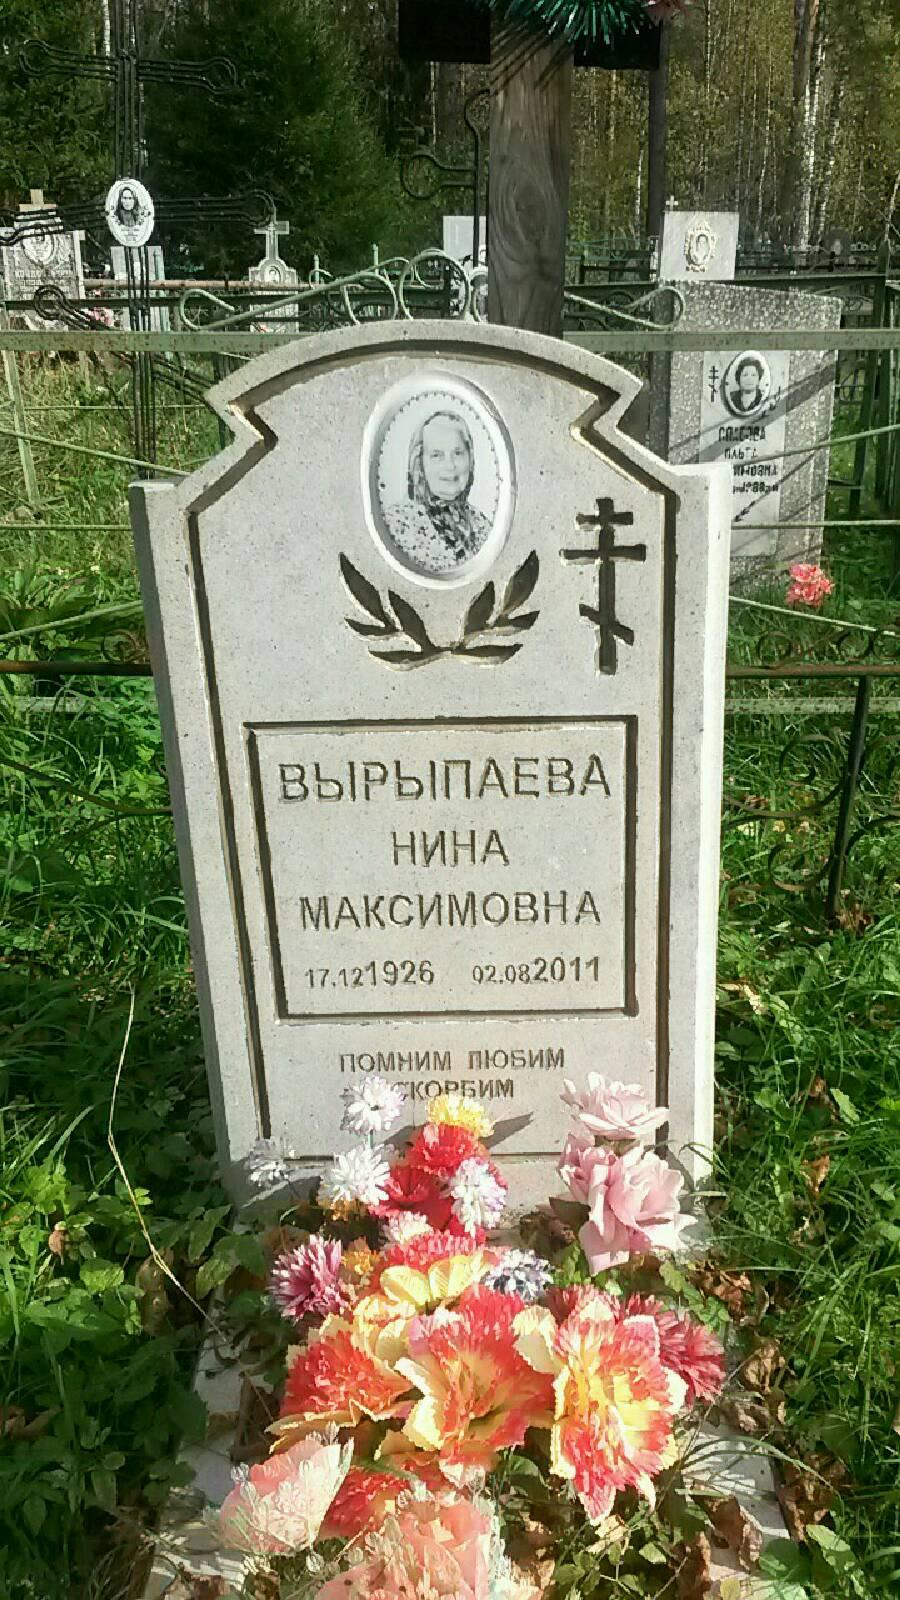upright: (136, 240, 764, 1600)
